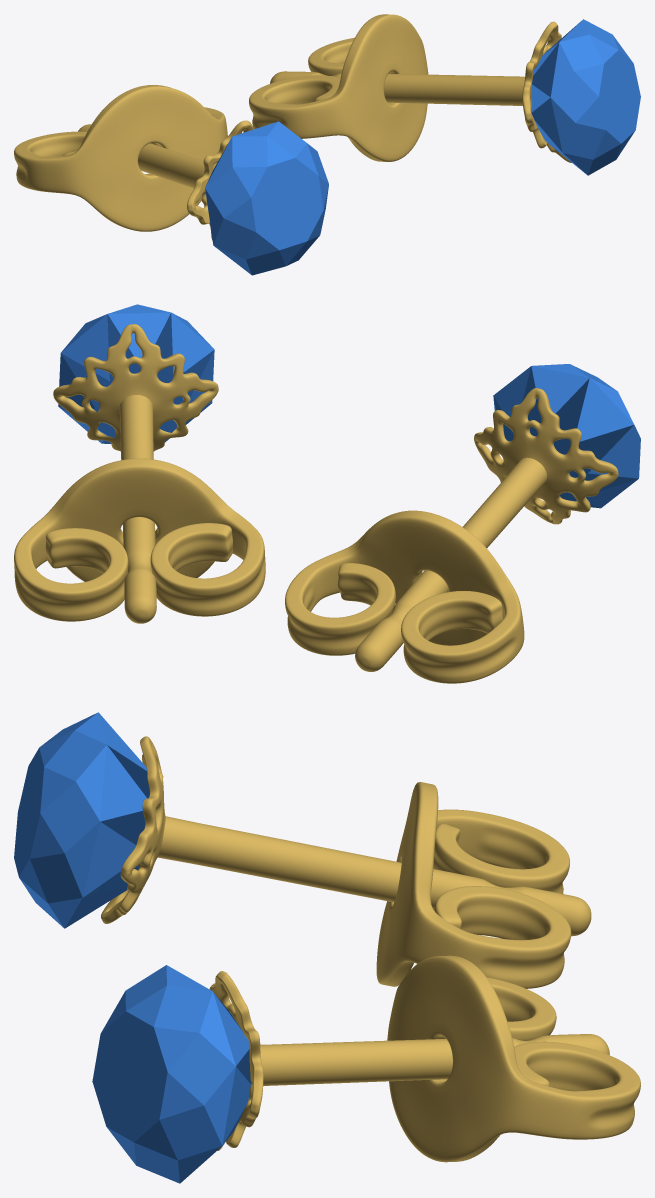
Rendered from 1744280294333_javitott fulbevalo vegleges.glb.
3 renders of one model, top to bottom at view 1: azimuth 30°, elevation 25°; view 2: azimuth 150°, elevation 25°; view 3: azimuth 270°, elevation 25°, orthographic. The views are drawn at different scales.
Visible parts, largest first — view 1: node_c69b081e_b0b2_4f6b_a23a_504eada27dbf_mesh0, Gem.001, Gem; view 2: node_c69b081e_b0b2_4f6b_a23a_504eada27dbf_mesh0, Gem.001, Gem; view 3: node_c69b081e_b0b2_4f6b_a23a_504eada27dbf_mesh0, Gem, Gem.001.
Part boxes in pixels (<box>): node_c69b081e_b0b2_4f6b_a23a_504eada27dbf_mesh0: <box>14,14,571,240</box>; Gem.001: <box>205,121,328,275</box>; Gem: <box>531,19,640,175</box>; node_c69b081e_b0b2_4f6b_a23a_504eada27dbf_mesh0: <box>14,324,618,683</box>; Gem.001: <box>493,364,640,508</box>; Gem: <box>58,304,214,444</box>; node_c69b081e_b0b2_4f6b_a23a_504eada27dbf_mesh0: <box>101,736,640,1162</box>; Gem: <box>92,965,250,1183</box>; Gem.001: <box>14,712,149,928</box>.
Bounding box in the file's own units: 1.76 × 0.5946 × 1.35.
